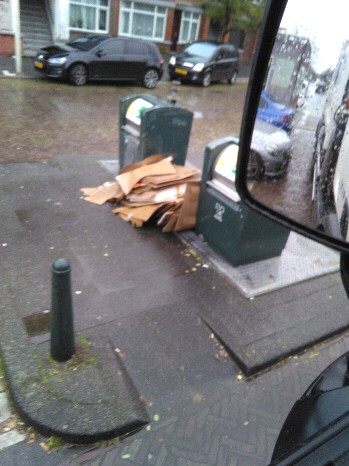Container: (207, 143, 290, 256), (119, 87, 184, 155)
Papier: (113, 159, 203, 213)
